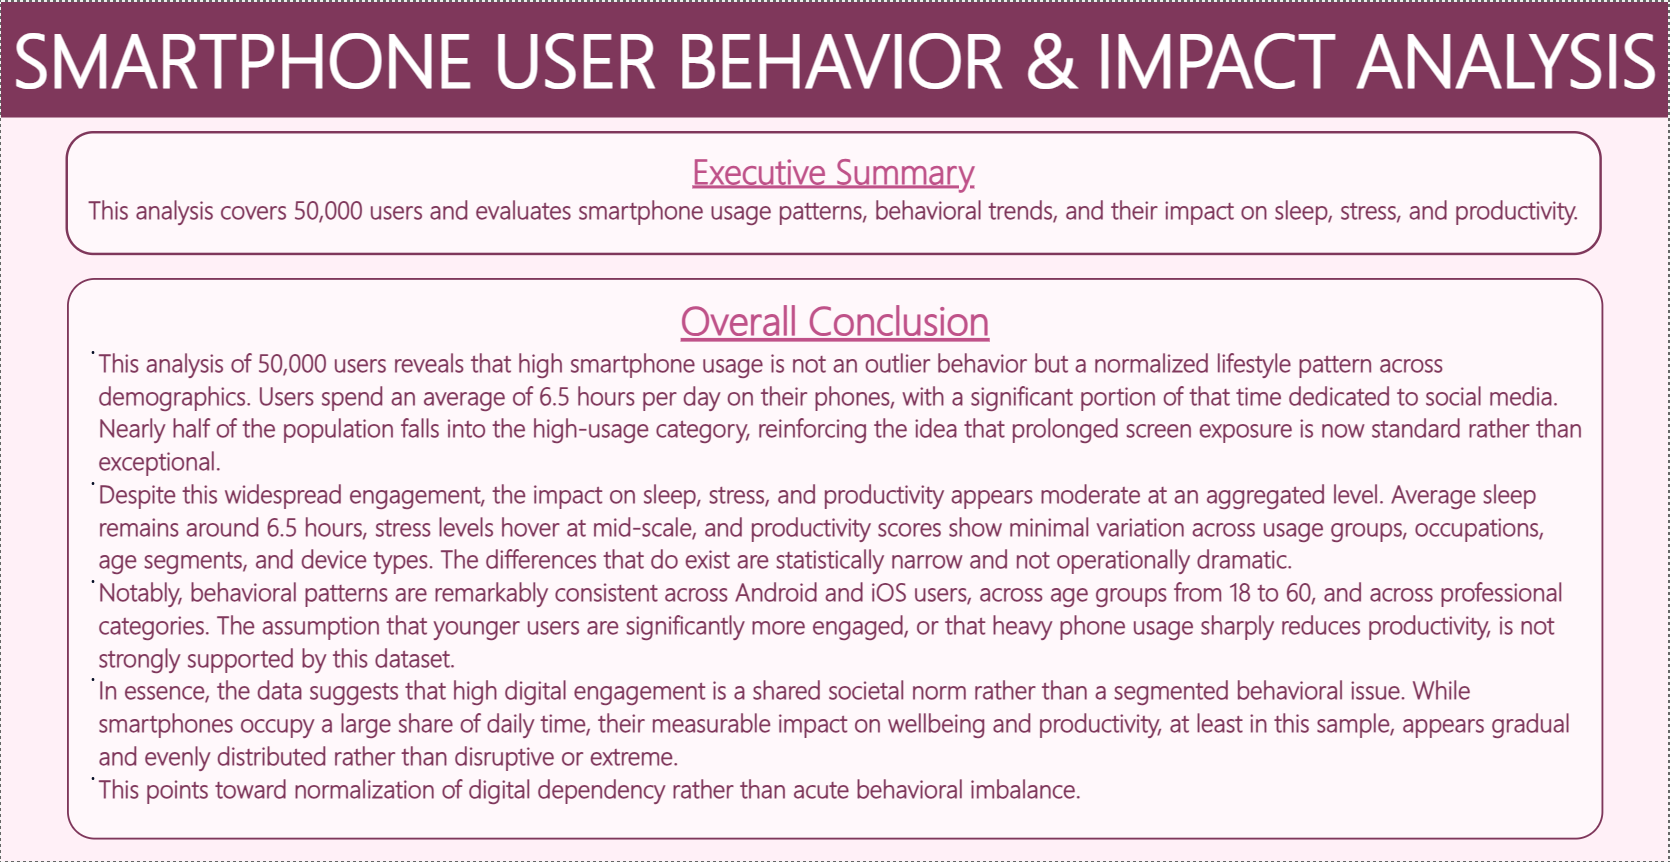

Layout of this report page (visuals, bound fields, positions):
{"tool":"powerbi","page":{"name":"OVERALL SUMMARY","canvas":[1800,927],"ordinal":0},"visuals":[{"type":"textbox","box":[0,0,1800.8,124.6],"z":0},{"type":"textbox","box":[70,140,1658,134],"z":1000},{"type":"textbox","box":[72,298,1658,606],"z":1001}]}

Visuals, with their boxes in screenshot pixels (x1, y1, x2, y2), scaled from the page's 1800x927 canvas onto the 1670x862 screenshot:
textbox: 0,0,1669,116
textbox: 65,130,1603,255
textbox: 67,277,1605,841
